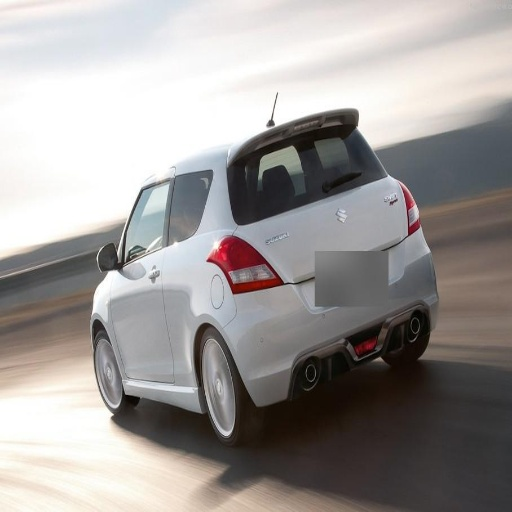back_bumper: (223, 235, 433, 405)
back_glass: (228, 133, 384, 223)
back_left_door: (162, 181, 195, 315)
tailgate: (273, 177, 404, 264)
trunk: (266, 190, 405, 301)
